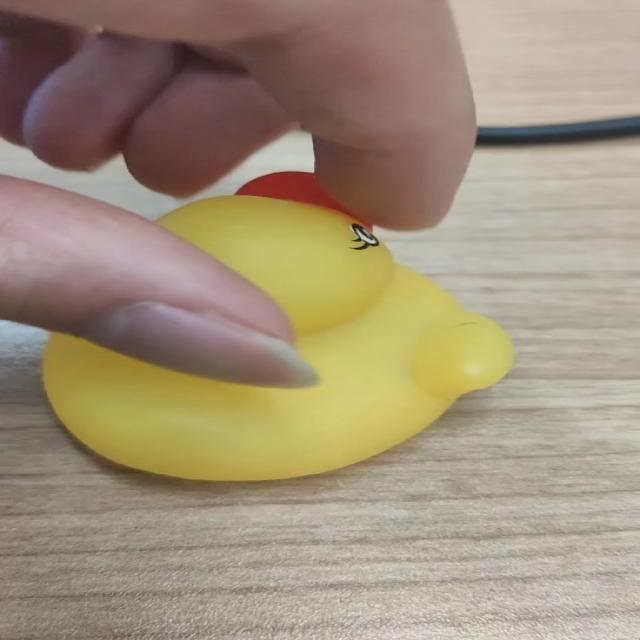rubber-duck: (42, 195, 511, 479)
